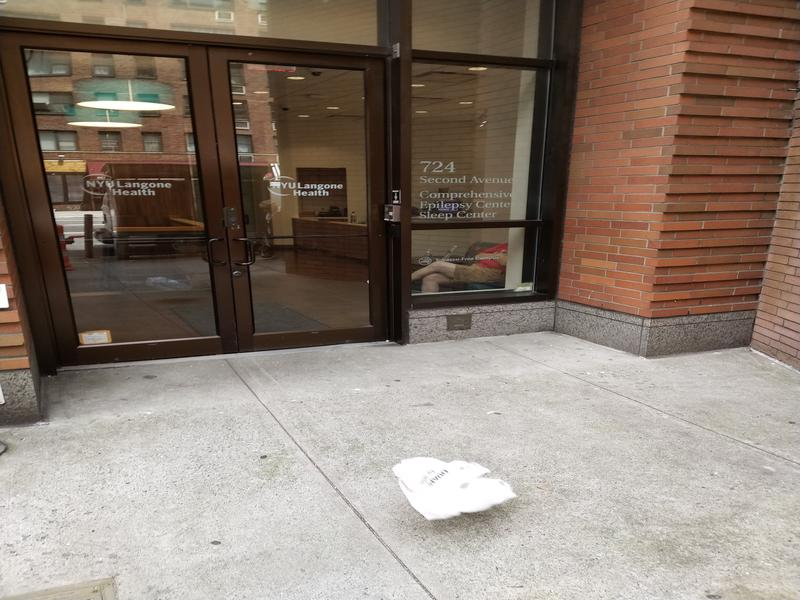double_door: (3, 14, 437, 367)
